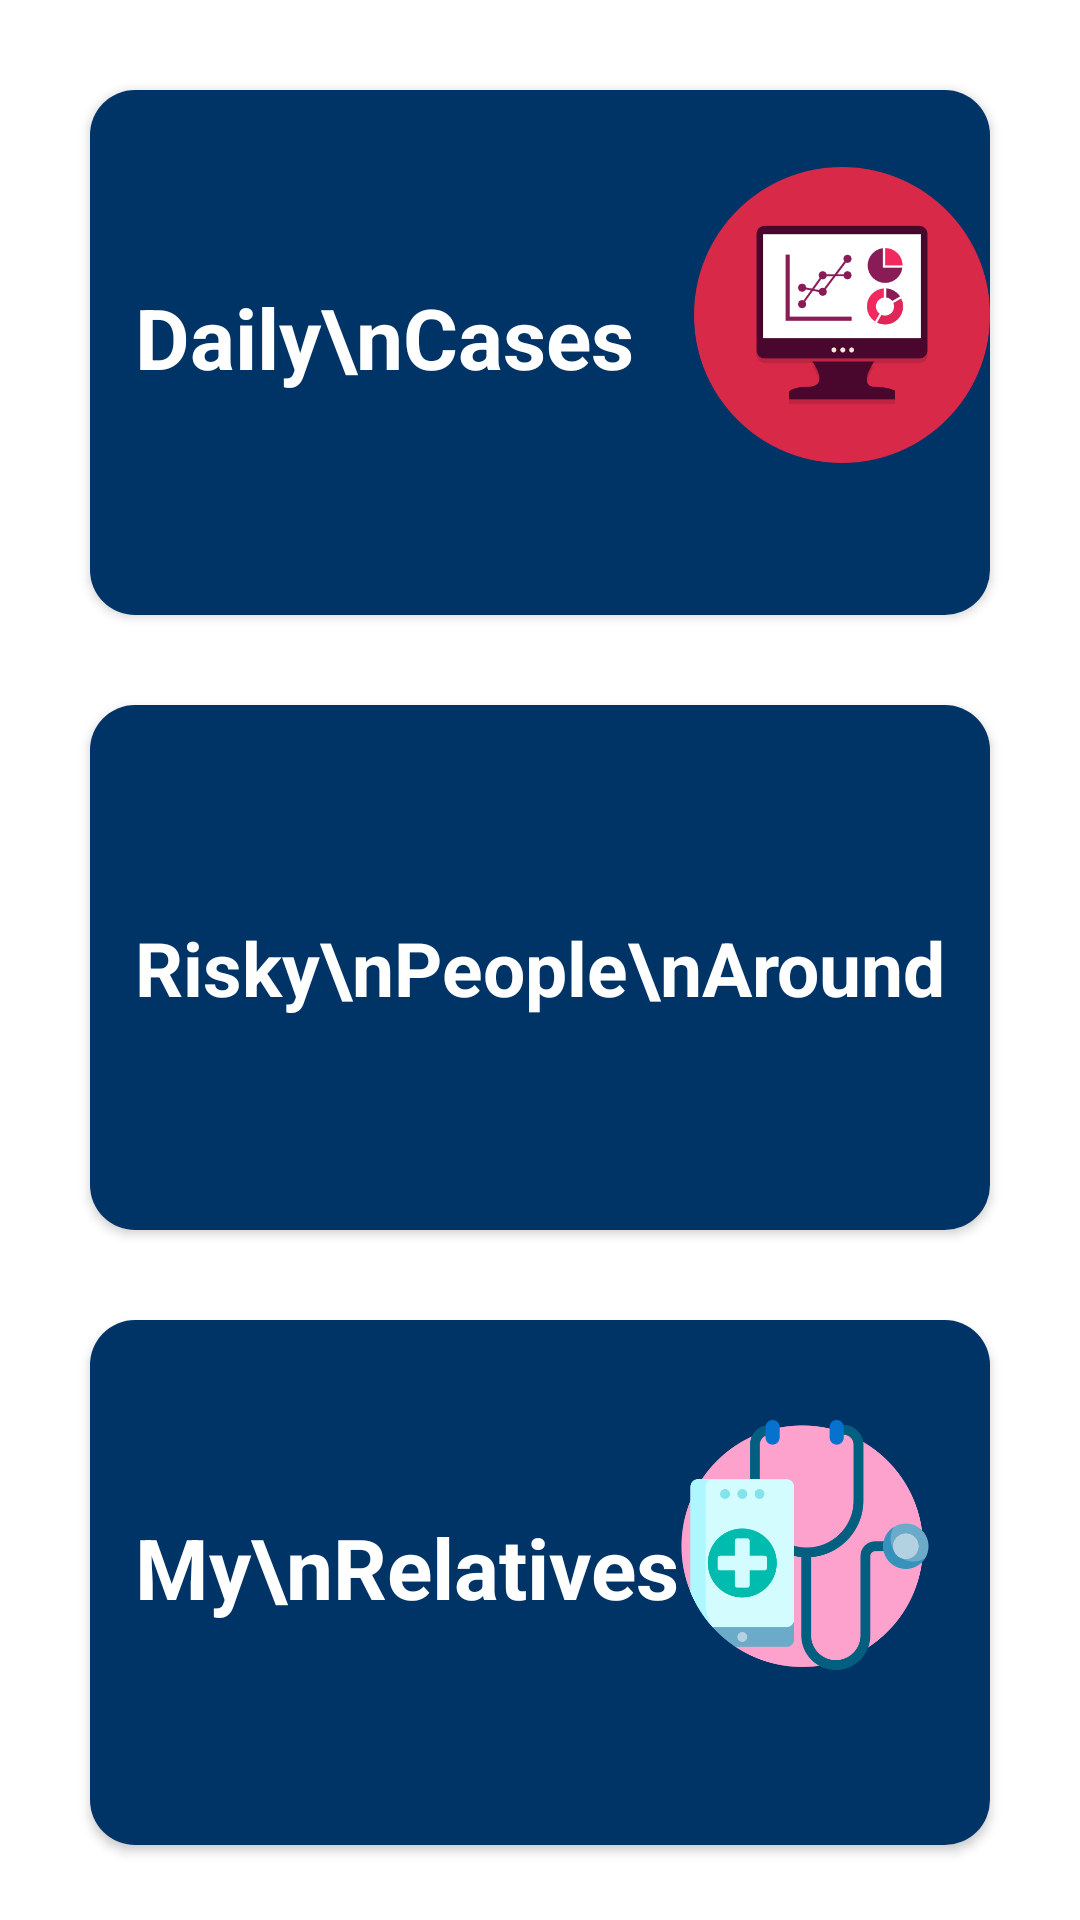

Named icons in this screenshot (1080px×1920px) and their centers, (x,y):
medical: (805,1545)
statistics: (842,315)
